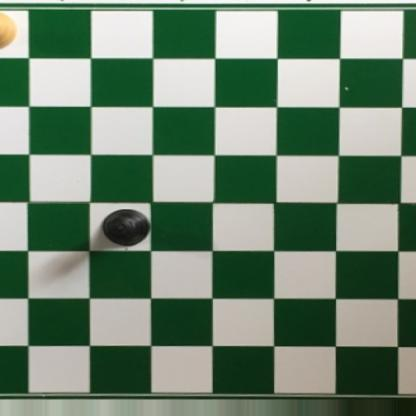black-queen: (100, 208, 150, 248)
white-queen: (0, 0, 19, 52)
